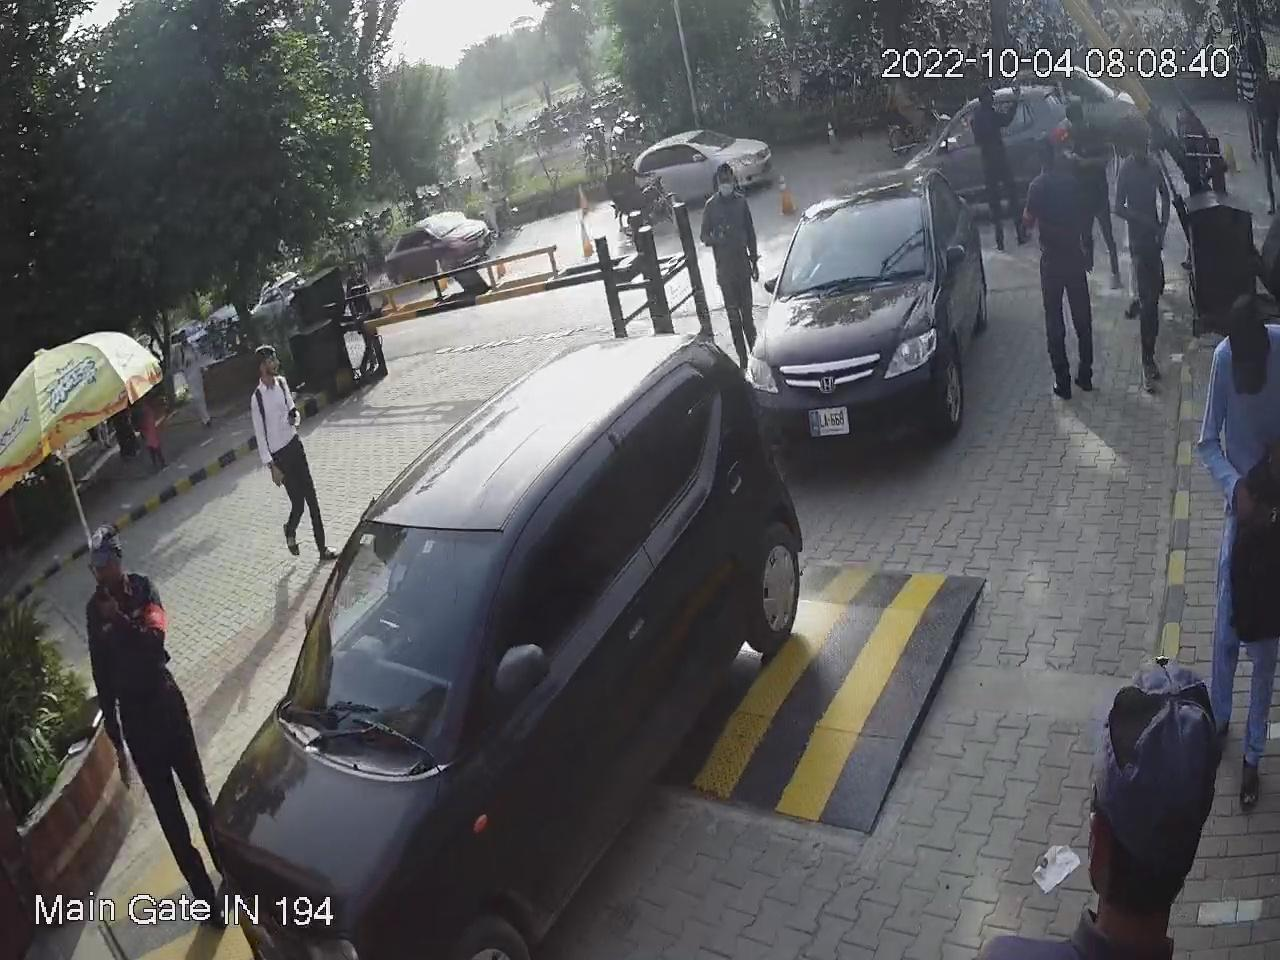windshield: (258, 517, 508, 783), (778, 172, 930, 301)
